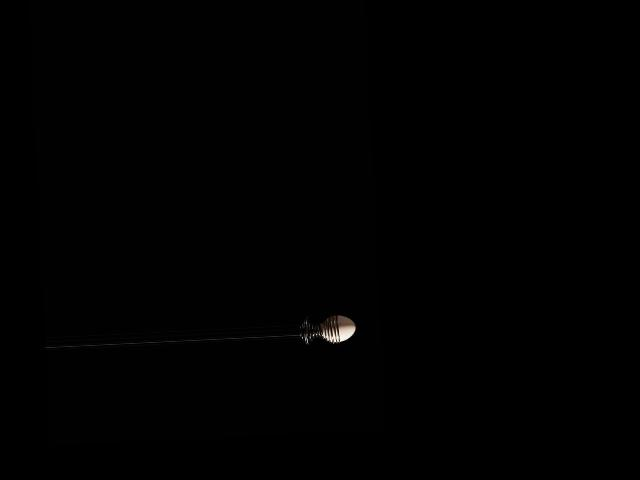egg: (320, 314, 356, 343)
